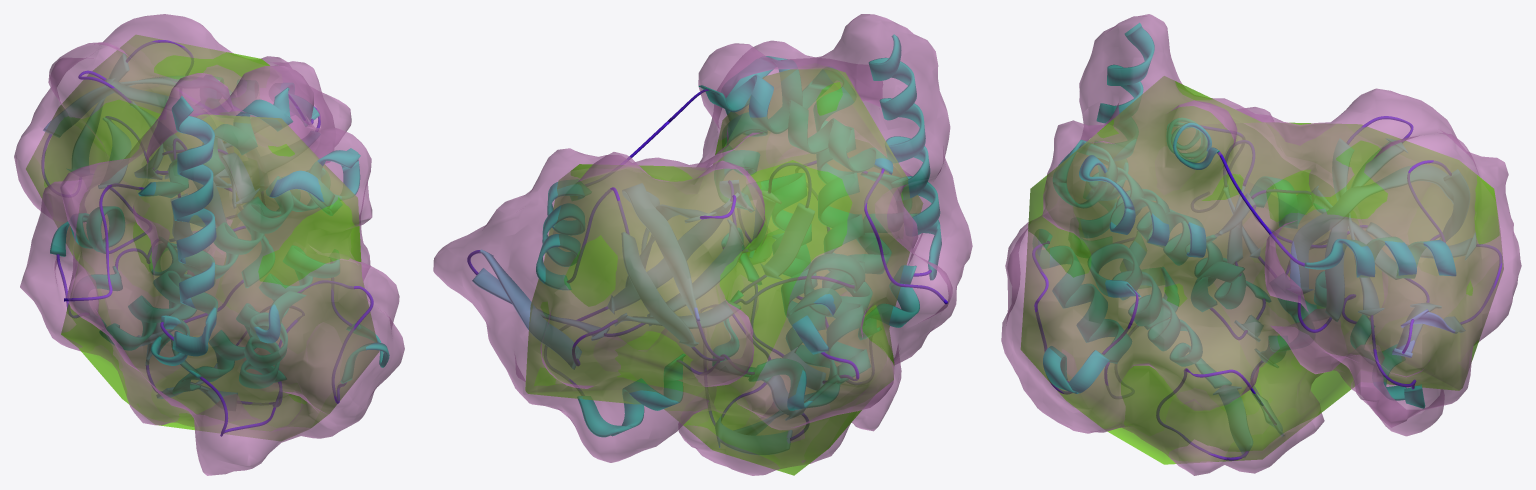
The model's file is irga6 GTPase.fbx.
3 views of the same model, side by side, from view 1: azimuth 30°, elevation 25°; view 2: azimuth 150°, elevation 25°; view 3: azimuth 270°, elevation 25° (orthographic). The views are drawn at different scales.
Visible parts, largest first — view 1: Molecular_Surface, MC, 4jrn_2_A_Helix15, 4jrn_2_A_Helix8, 4jrn_2_A_Helix11, 4jrn_2_A_Helix1, 4jrn_2_A_Helix13, 4jrn_2_A_Helix5, 4jrn_2_A_Strand2, 4jrn_2_A_Strand1, 4jrn_2_A_Helix14, 4jrn_2_A_Helix7 (+14 smaller); view 2: Molecular_Surface, MC, 4jrn_2_A_Helix8, 4jrn_2_A_Helix15, 4jrn_2_A_Helix1, 4jrn_2_A_Helix11, 4jrn_2_A_Helix2, 4jrn_2_A_Helix3, 4jrn_2_A_Helix5, 4jrn_2_A_Strand2, 4jrn_2_A_Strand8, 4jrn_2_A_Strand1 (+16 smaller); view 3: Molecular_Surface, MC, 4jrn_2_A_Helix11, 4jrn_2_A_Helix8, 4jrn_2_A_Helix13, 4jrn_2_A_Strand2, 4jrn_2_A_Helix2, 4jrn_2_A_Helix15, 4jrn_2_A_Helix6, 4jrn_2_A_Strand3, 4jrn_2_A_Helix12, 4jrn_2_A_Helix5 (+15 smaller).
Boxes of the visible parts, box(x1,y1,x2,y2) form: Molecular_Surface: box(14, 14, 404, 475); MC: box(26, 35, 379, 440); 4jrn_2_A_Helix15: box(171, 96, 217, 356); 4jrn_2_A_Helix8: box(99, 170, 334, 350); 4jrn_2_A_Helix11: box(173, 245, 339, 393); 4jrn_2_A_Helix1: box(138, 87, 292, 197); 4jrn_2_A_Helix13: box(239, 291, 305, 388); 4jrn_2_A_Helix5: box(50, 206, 124, 256); 4jrn_2_A_Strand2: box(43, 76, 231, 137); 4jrn_2_A_Strand1: box(67, 53, 129, 171); 4jrn_2_A_Helix14: box(150, 315, 202, 378); 4jrn_2_A_Helix7: box(309, 148, 360, 215); Molecular_Surface: box(433, 14, 972, 475); MC: box(525, 67, 922, 475); 4jrn_2_A_Helix8: box(811, 69, 870, 384); 4jrn_2_A_Helix15: box(869, 34, 941, 280); 4jrn_2_A_Helix1: box(698, 74, 893, 174); 4jrn_2_A_Helix11: box(760, 173, 839, 407); 4jrn_2_A_Helix2: box(536, 182, 584, 289); 4jrn_2_A_Helix3: box(577, 354, 685, 437); 4jrn_2_A_Helix5: box(788, 254, 864, 354); 4jrn_2_A_Strand2: box(622, 183, 699, 321); 4jrn_2_A_Strand8: box(479, 249, 581, 369); 4jrn_2_A_Strand1: box(621, 232, 698, 346); Molecular_Surface: box(1001, 14, 1521, 475); MC: box(1021, 76, 1503, 464); 4jrn_2_A_Helix11: box(1088, 243, 1231, 388); 4jrn_2_A_Helix8: box(1053, 139, 1270, 308); 4jrn_2_A_Helix13: box(1037, 229, 1131, 363); 4jrn_2_A_Strand2: box(1290, 165, 1453, 293); 4jrn_2_A_Helix2: box(1304, 237, 1456, 278); 4jrn_2_A_Helix15: box(1080, 23, 1154, 237); 4jrn_2_A_Helix6: box(1109, 197, 1216, 257); 4jrn_2_A_Strand3: box(1325, 138, 1407, 321); 4jrn_2_A_Helix12: box(1043, 346, 1109, 393); 4jrn_2_A_Helix5: box(1250, 176, 1327, 228).
Size of the model in its own units: 55.64 by 55.71 by 64.13.
